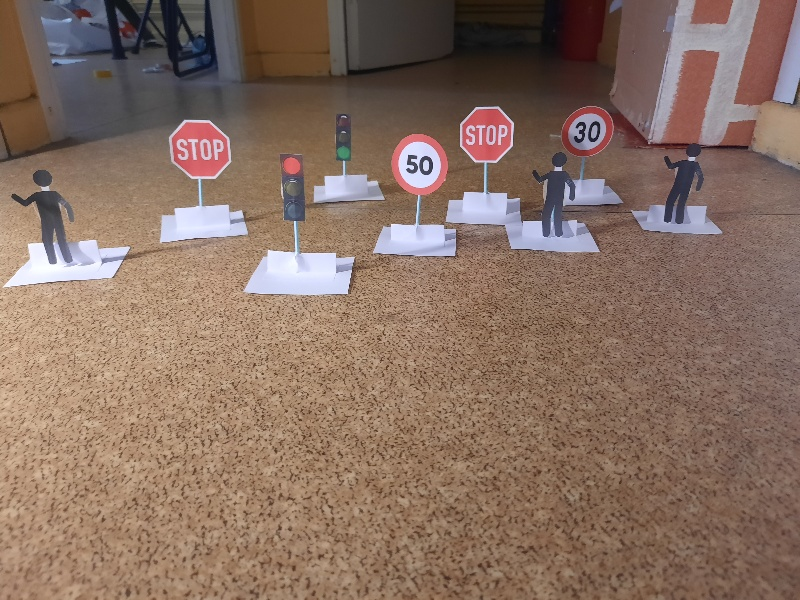Green: (334, 113, 353, 161)
Limit 30: (562, 106, 612, 154)
Limit 50: (393, 133, 446, 194)
Person: (12, 167, 75, 262), (531, 154, 577, 238), (662, 144, 703, 227)
Red: (277, 154, 306, 223)
Stop: (168, 119, 227, 179), (459, 105, 518, 163)
